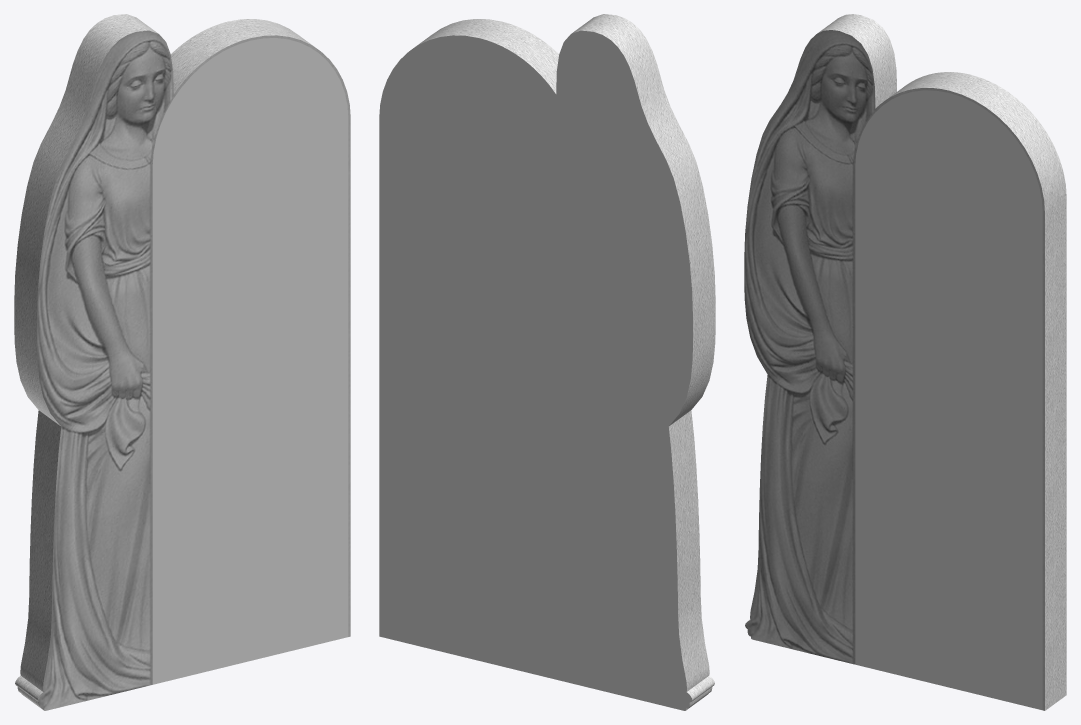
The model's file is cn848eddb53f_tkf.glb.
3 views of the same model, side by side, from view 1: azimuth 30°, elevation 25°; view 2: azimuth 150°, elevation 25°; view 3: azimuth 330°, elevation 25° (orthographic). The views are drawn at different scales.
Visible parts, largest first — view 1: Pam-d03-210, Pam-d03-210_2_notexture; view 2: Pam-d03-210, Pam-d03-210_2_notexture; view 3: Pam-d03-210, Pam-d03-210_2_notexture.
Boxes of the visible parts, x1,y1,x2,y2 form: Pam-d03-210: (152,38,348,684); Pam-d03-210_2_notexture: (14,14,350,710); Pam-d03-210: (379,30,692,710); Pam-d03-210_2_notexture: (413,14,715,710); Pam-d03-210: (855,90,1042,710); Pam-d03-210_2_notexture: (744,14,1066,710).
Bounding box in the file's own units: 0.4 × 0.8 × 0.05.
1 material, 1 textured.
